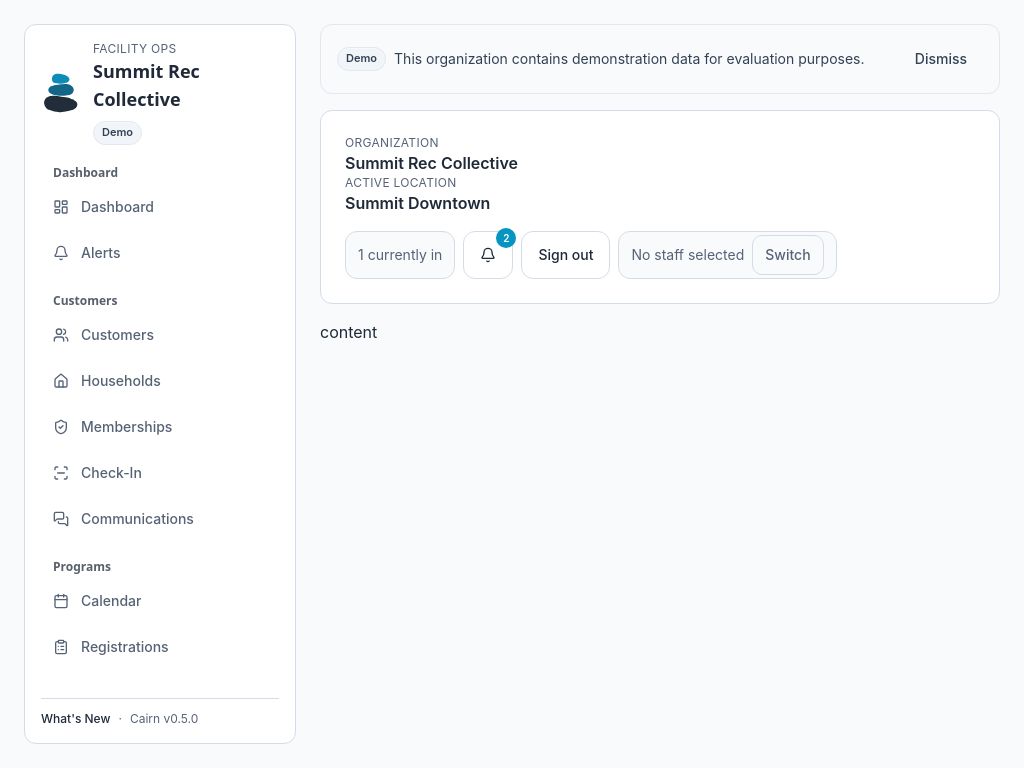
Test case: Staff management MVP › shows staff nav for manager and hides it for instructor
Step 1. Click the button "Switch" → (788, 255), box [752,235,824,275]
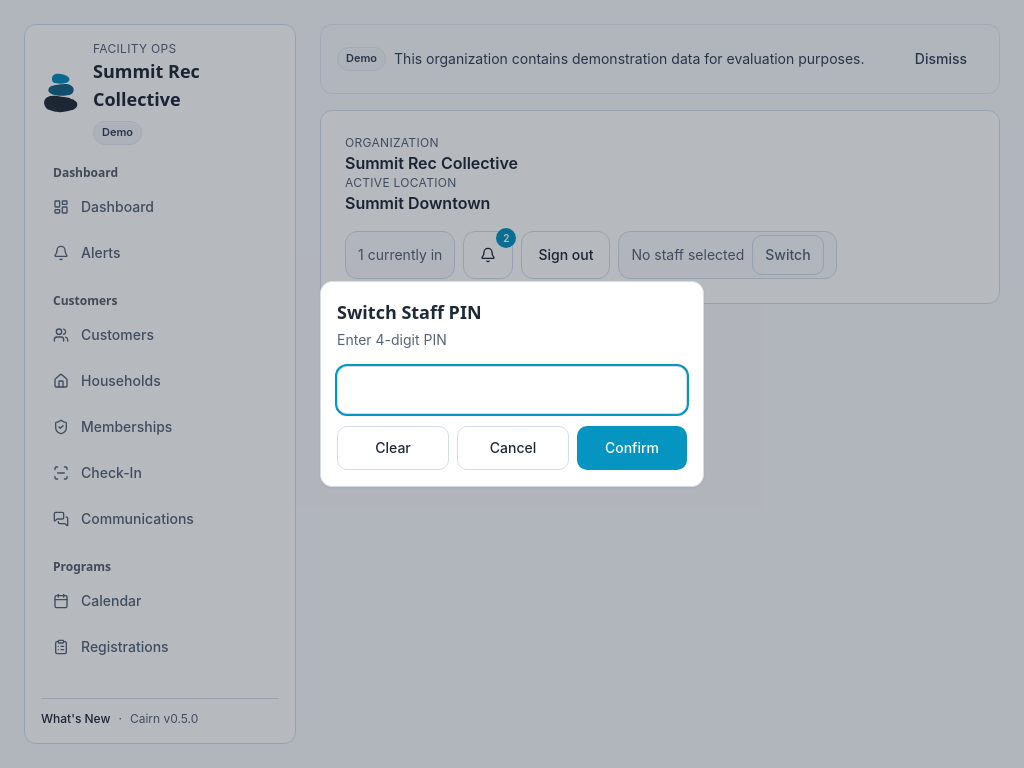
Step 2. Type "2222" into the password field named "Staff PIN input" → (512, 390), box [337,366,687,414]
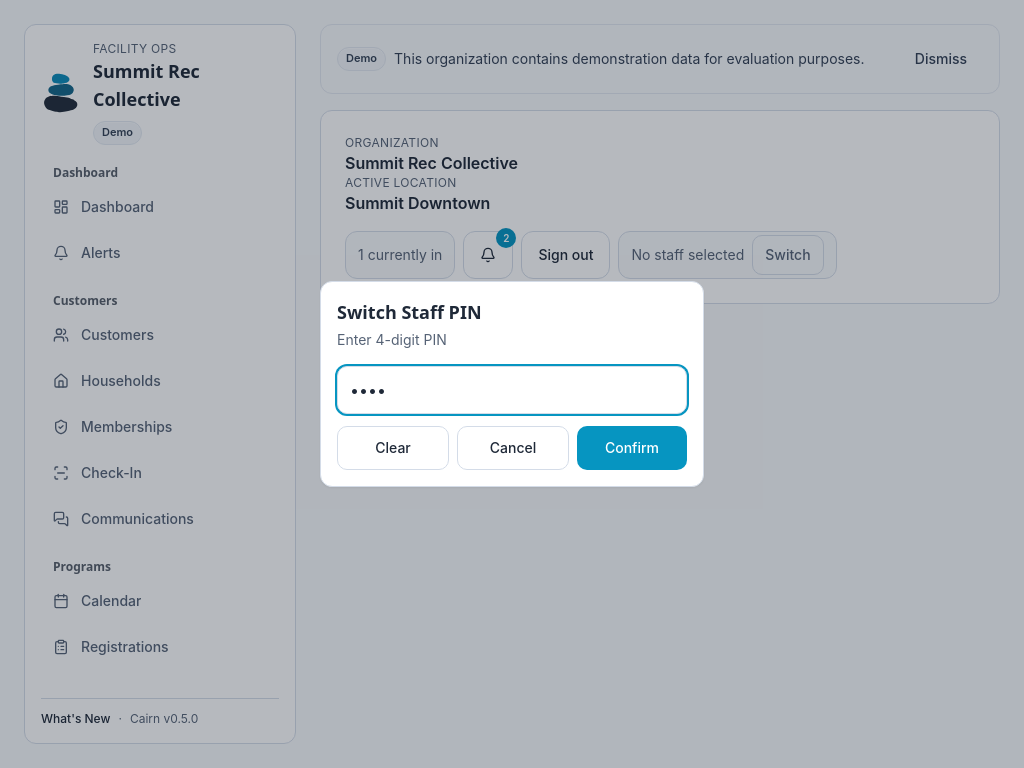
Step 3. Click the button "Confirm" → (632, 448), box [577,426,687,470]
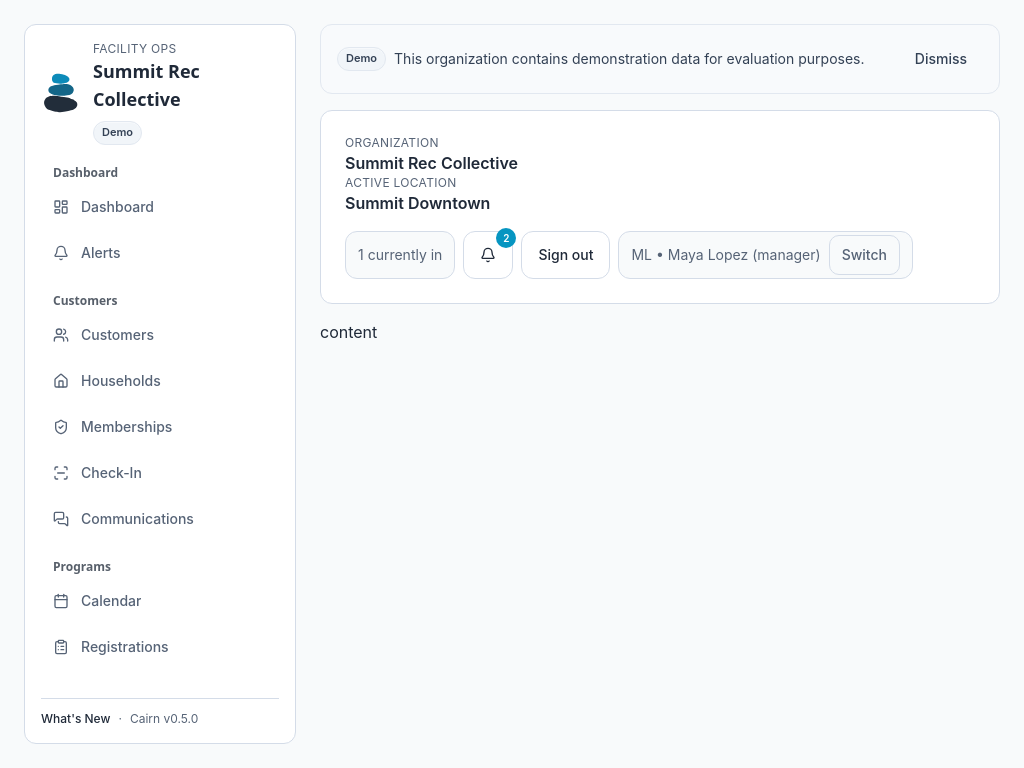
Step 4. Click the button "Switch" → (864, 255), box [829,235,900,275]
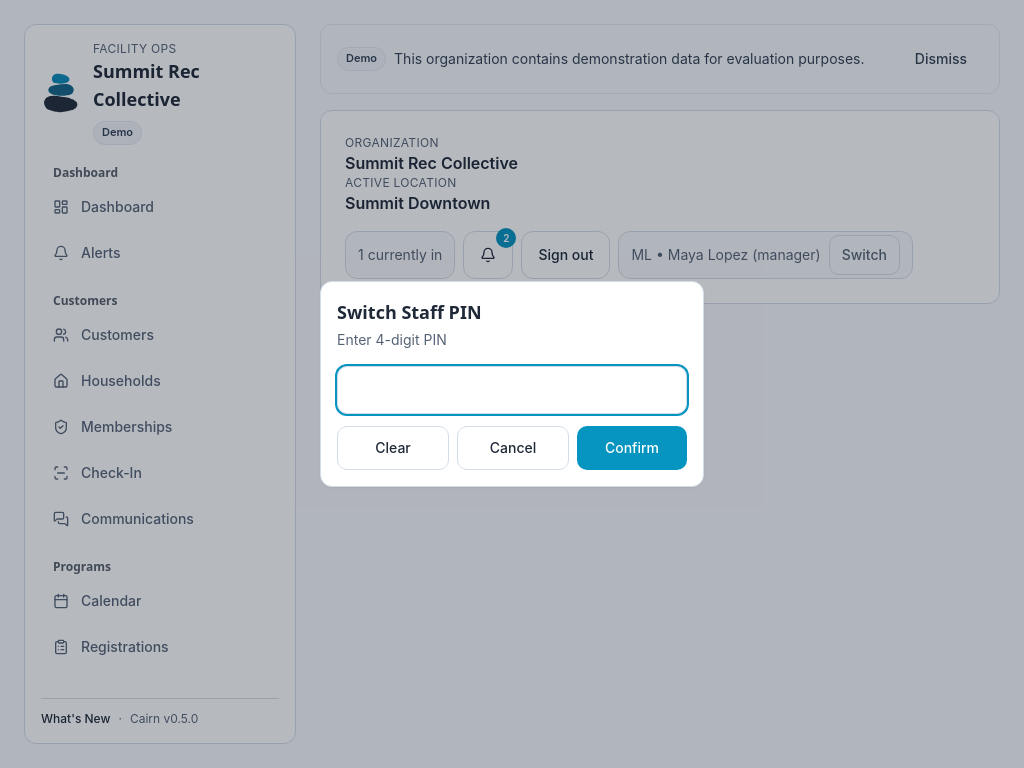
Step 5. Type "4444" into the password field named "Staff PIN input" → (512, 390), box [337,366,687,414]
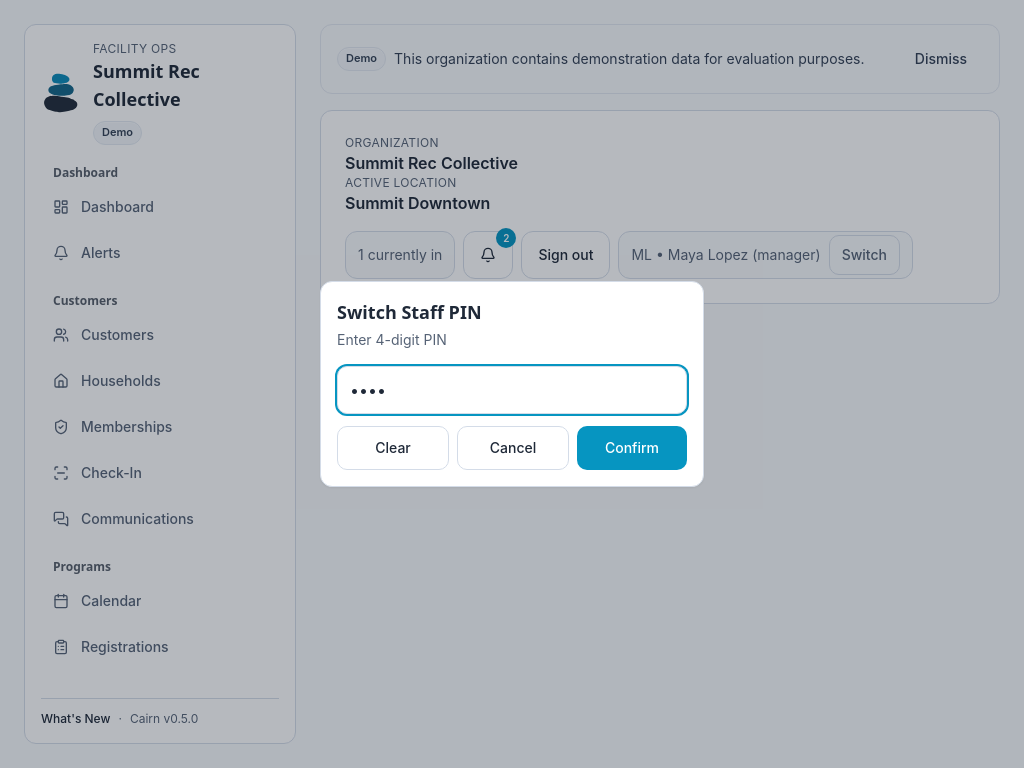
Step 6. Click the button "Confirm" → (632, 448), box [577,426,687,470]
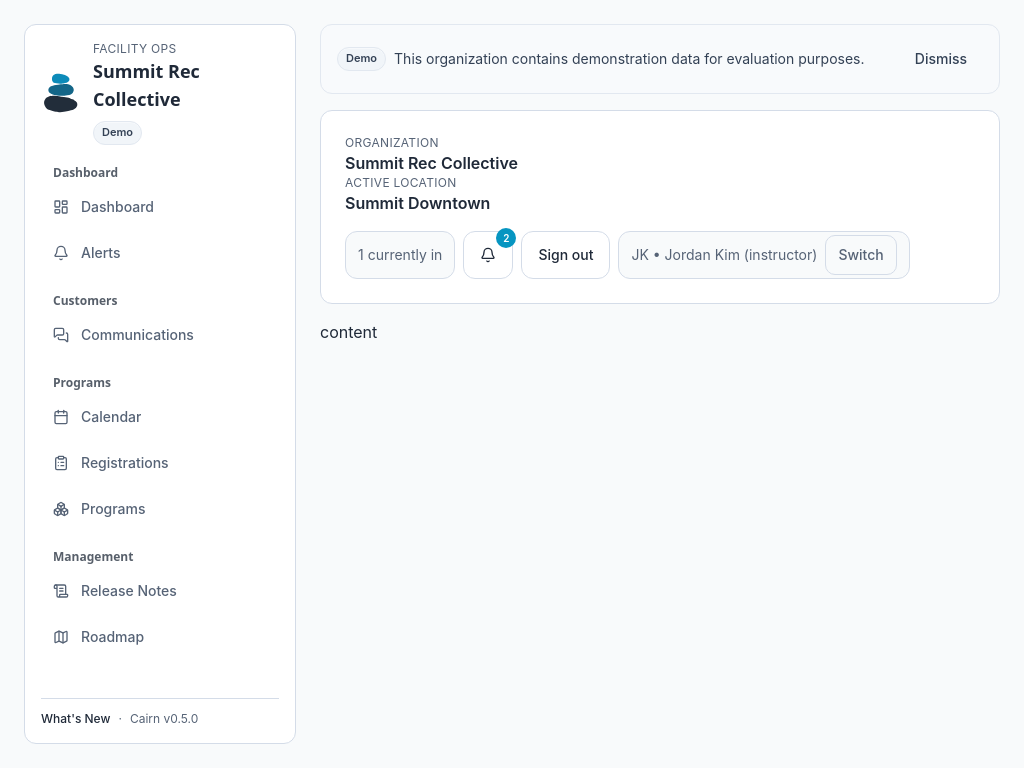
Expected: the heading "Staff" is gone
